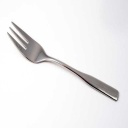Fork: (5, 20, 121, 103)
